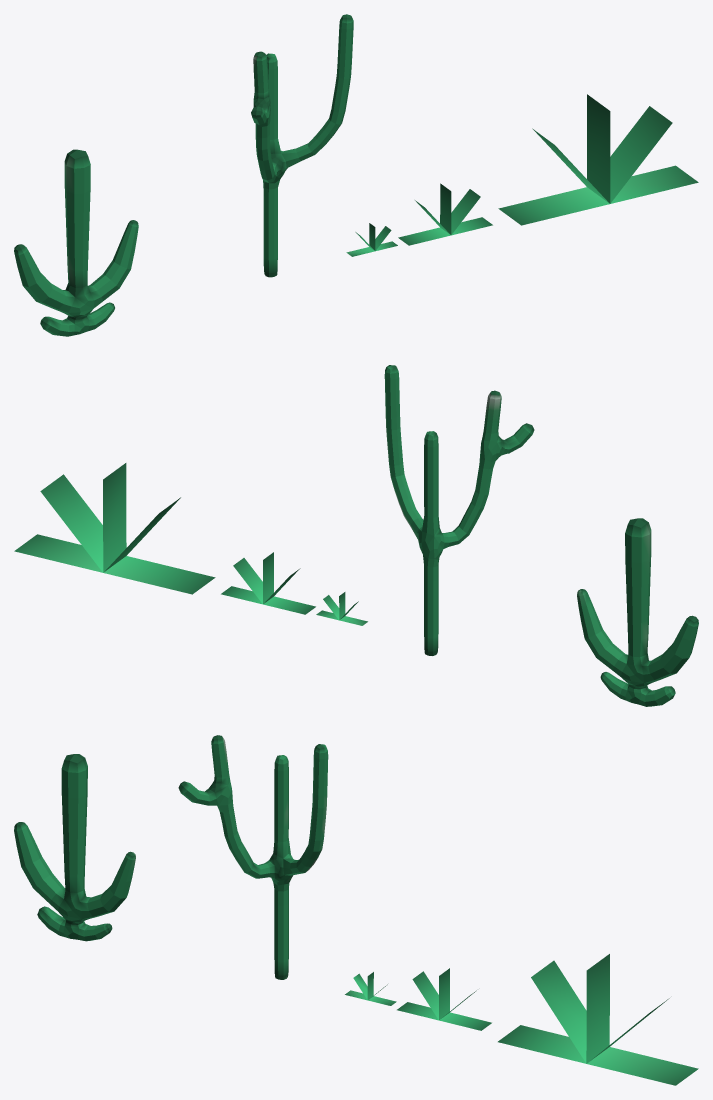
The model's file is VegetetationV01.fbx.
3 renders of one model, top to bottom at view 1: azimuth 30°, elevation 25°; view 2: azimuth 150°, elevation 25°; view 3: azimuth 330°, elevation 25°, orthographic.
Visible parts, largest first — view 1: Vegetetation05, Vegetetation04, Vegetetation03; view 2: Vegetetation05, Vegetetation03, Vegetetation04; view 3: Vegetetation05, Vegetetation04, Vegetetation03.
Boxes of the visible parts, x1,y1,x2,y2 form: Vegetetation05: (346,94,698,256); Vegetetation04: (14,149,138,336); Vegetetation03: (251,14,353,277); Vegetetation05: (14,463,367,625); Vegetetation03: (384,365,534,655); Vegetetation04: (577,518,698,706); Vegetetation05: (345,954,698,1085); Vegetetation04: (14,754,135,941); Vegetetation03: (178,735,328,979).
Size of the model in its own units: 194 by 73.21 by 25.01.
